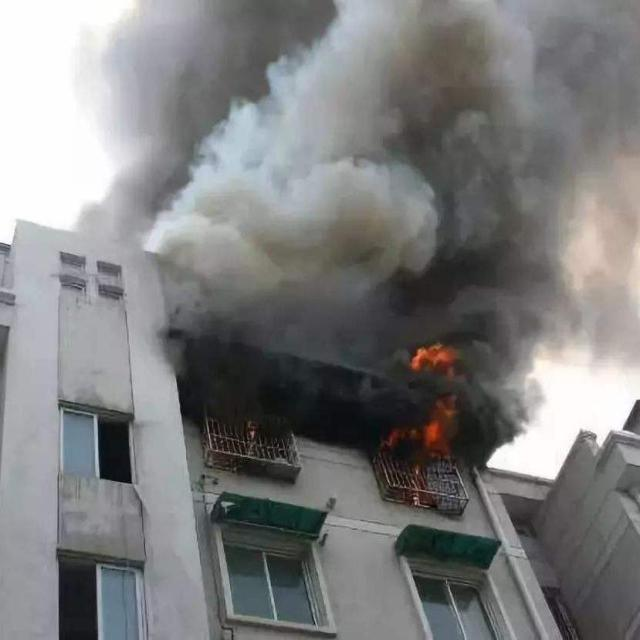Fire: (409, 340, 454, 376), (420, 411, 450, 453)
Smoke: (86, 0, 640, 330), (168, 333, 408, 408), (457, 330, 544, 462)
